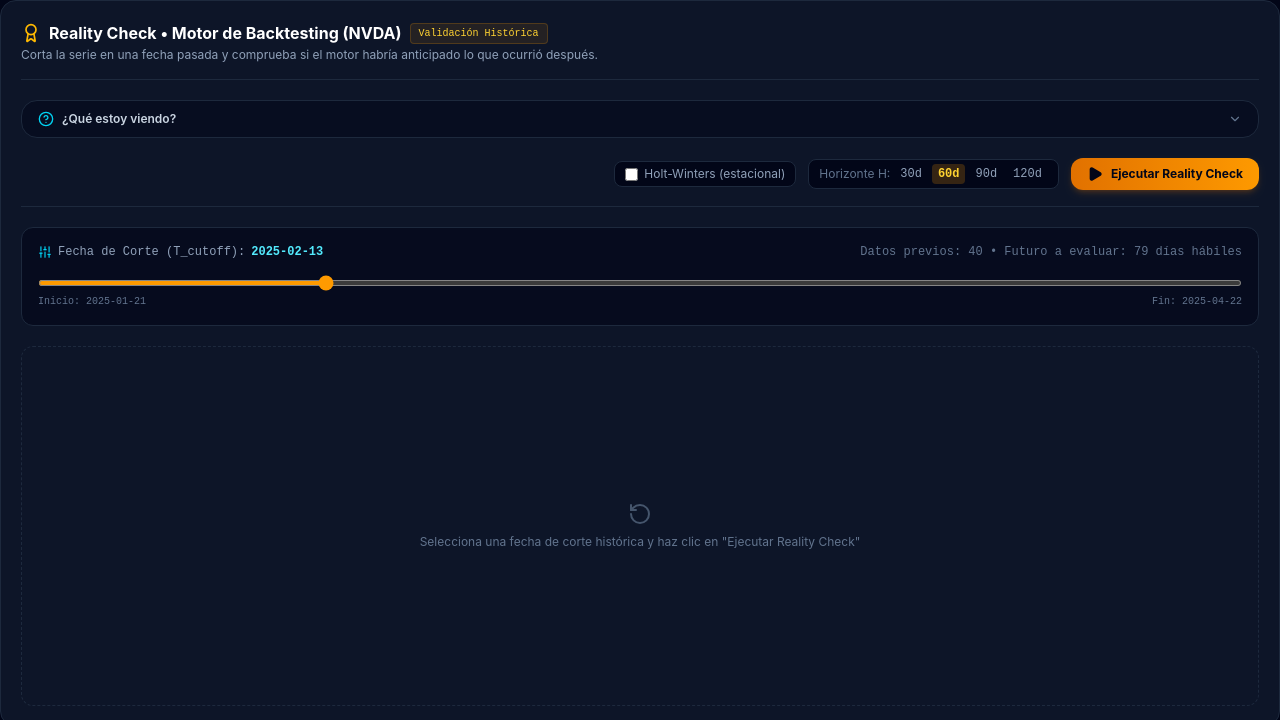
Test: BacktestPanel › says waiting does not help when TimesFM is not loaded
Click the button "Ejecutar Reality Check" at [1165, 174], box [1071,158,1259,190]
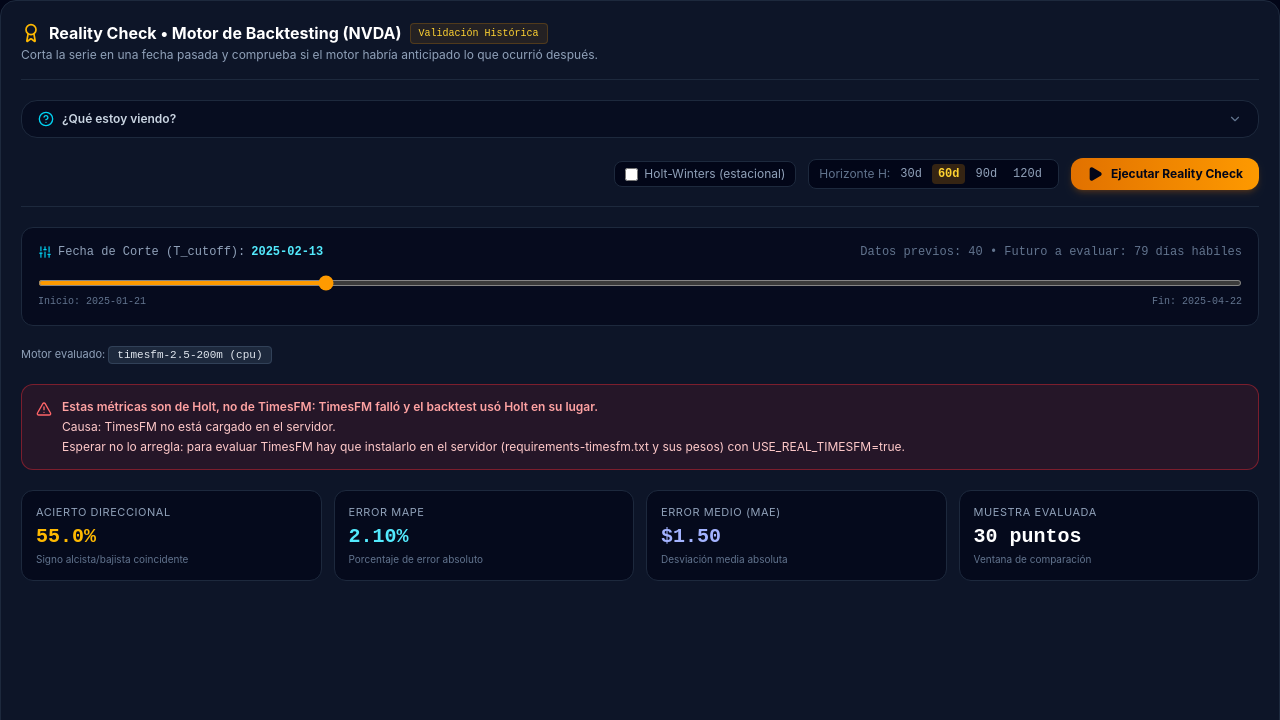
Check: the message does not show "reintentá", box [21,384,1259,470]
Check: the message shows "Esperar no lo arregla", box [62,438,905,454]
Check: the message shows "USE_REAL_TIMESFM=true", box [62,438,905,454]
